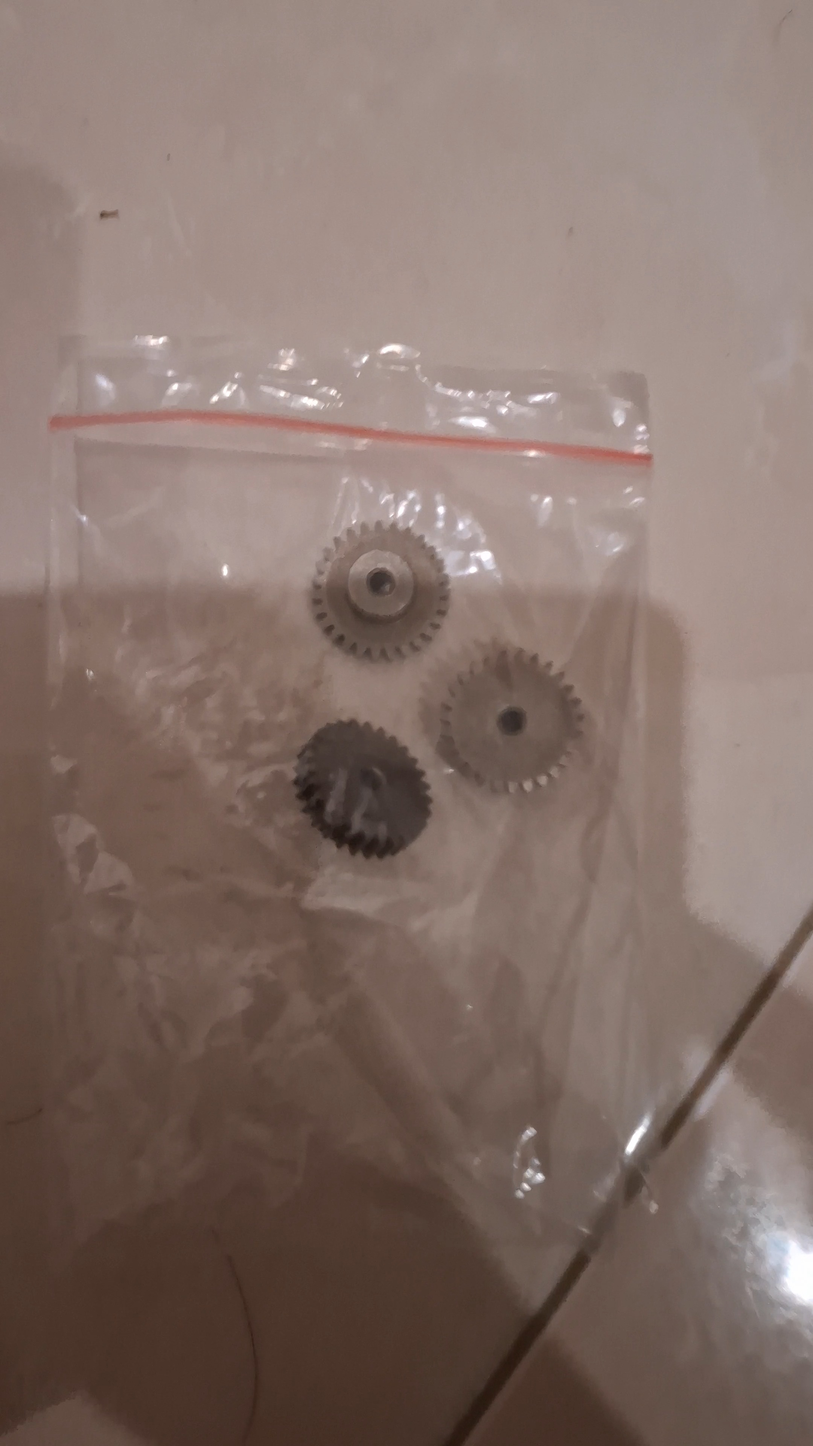spur gear: (430, 645, 589, 794), (307, 519, 453, 662), (289, 716, 435, 859)
